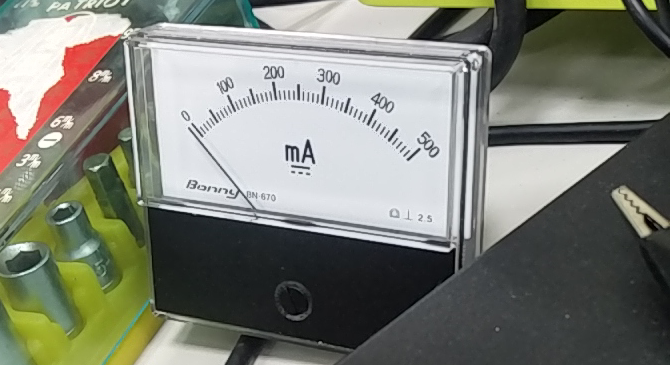MilliAmp_Meter: (137, 25, 479, 259)
